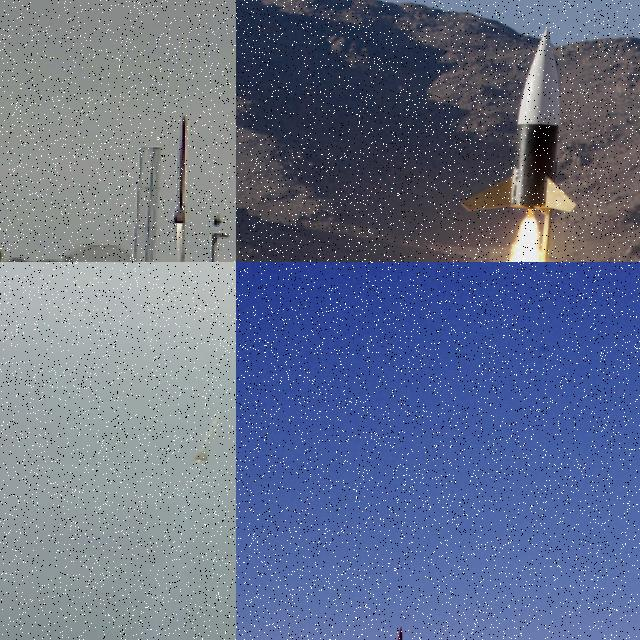Rocket: (458, 27, 578, 216), (170, 114, 189, 224), (194, 413, 220, 461)
